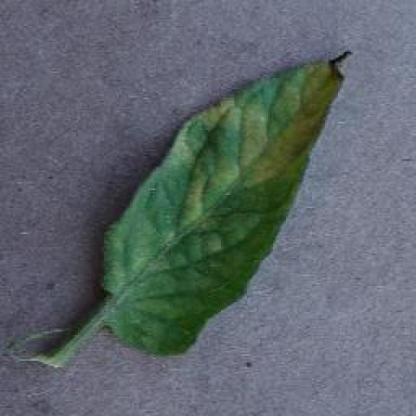Tomato_Leaf_Mold: (101, 53, 349, 346)
